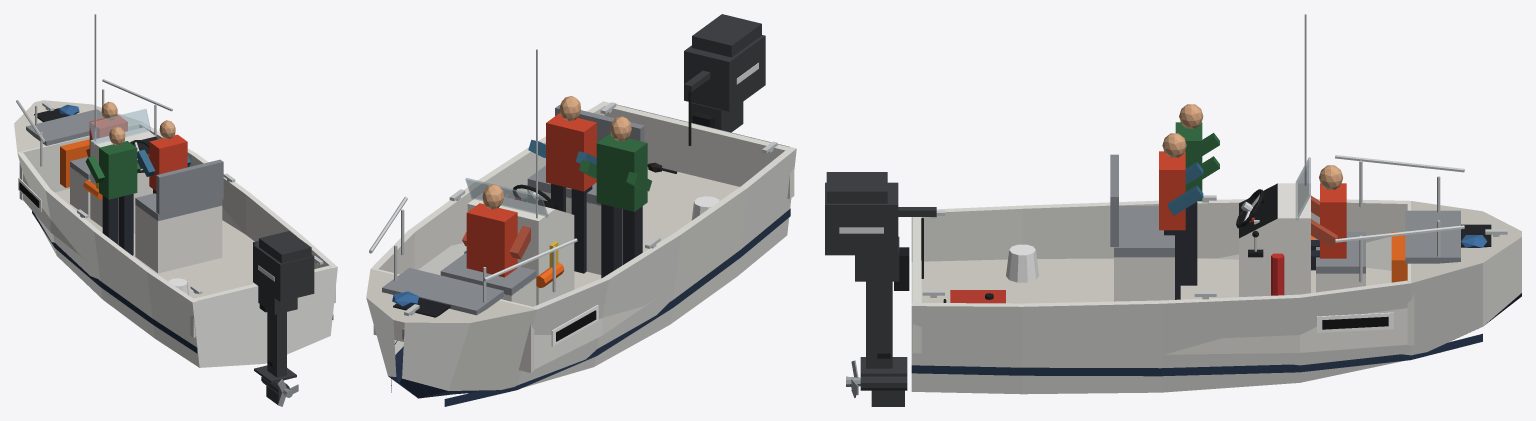
Rendered from boat.glb.
3 views of the same model, side by side, from view 1: azimuth 30°, elevation 25°; view 2: azimuth 150°, elevation 25°; view 3: azimuth 270°, elevation 25° (orthographic). The views are drawn at different scales.
Parts seen in each view (by area): view 1: hull, outboard, person_assessor, person_skipper, person_passenger; view 2: hull, outboard, person_assessor, person_skipper, person_passenger; view 3: hull, outboard, person_skipper, person_assessor, person_passenger.
Part boxes in pixels (<box>): hull: <box>14,14,337,367</box>; outboard: <box>253,231,314,404</box>; person_assessor: <box>85,126,140,255</box>; person_skipper: <box>137,120,190,193</box>; person_passenger: <box>86,101,127,157</box>; hull: <box>366,49,796,406</box>; outboard: <box>684,14,765,132</box>; person_assessor: <box>579,116,651,278</box>; person_skipper: <box>528,96,596,273</box>; person_passenger: <box>462,184,530,277</box>; hull: <box>911,14,1521,394</box>; outboard: <box>825,172,936,406</box>; person_skipper: <box>1159,133,1203,299</box>; person_assessor: <box>1175,104,1219,285</box>; person_passenger: <box>1311,165,1346,270</box>.
Size of the model in its own units: 2.2 by 3.74 by 6.28.
